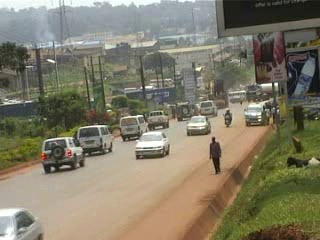Car: (39, 133, 86, 175), (0, 204, 47, 237), (132, 126, 172, 161), (185, 113, 213, 138), (172, 100, 197, 121), (191, 100, 201, 114)
Motorcycle: (221, 106, 234, 127)
